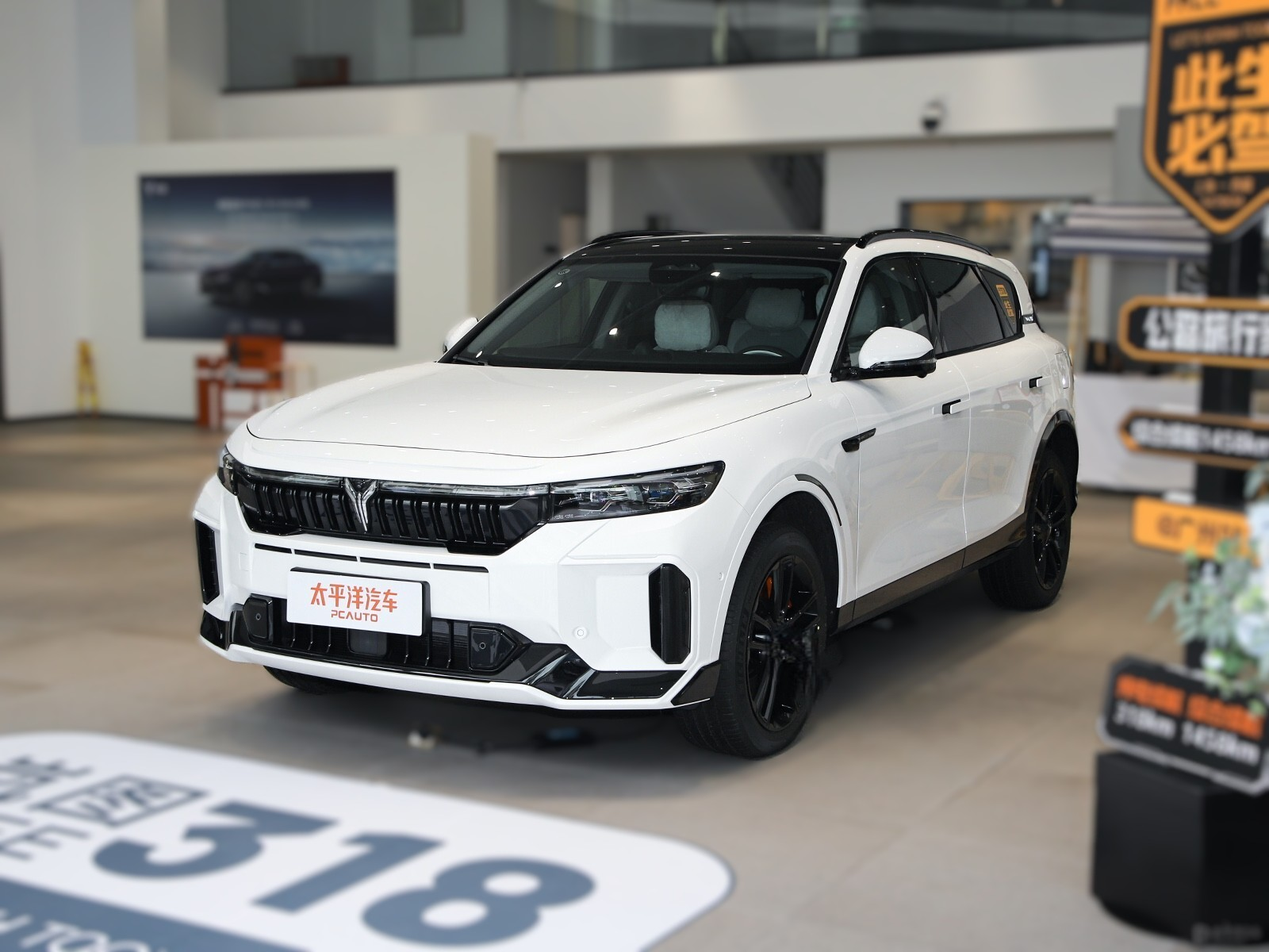VOYAH: (346, 479, 375, 531)
